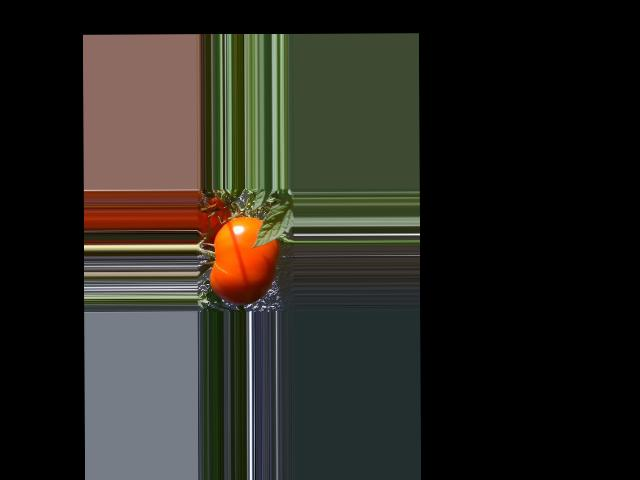tomato: (209, 216, 279, 304)
